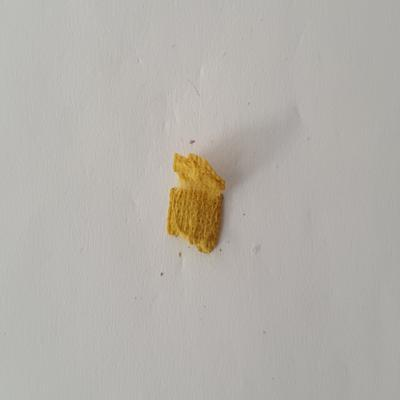plastic: (160, 140, 234, 257)
